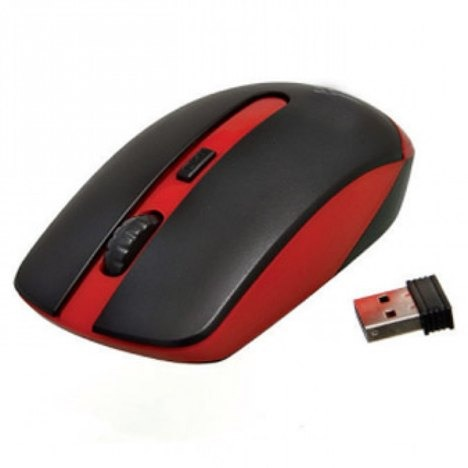mouse: (11, 79, 416, 364)
